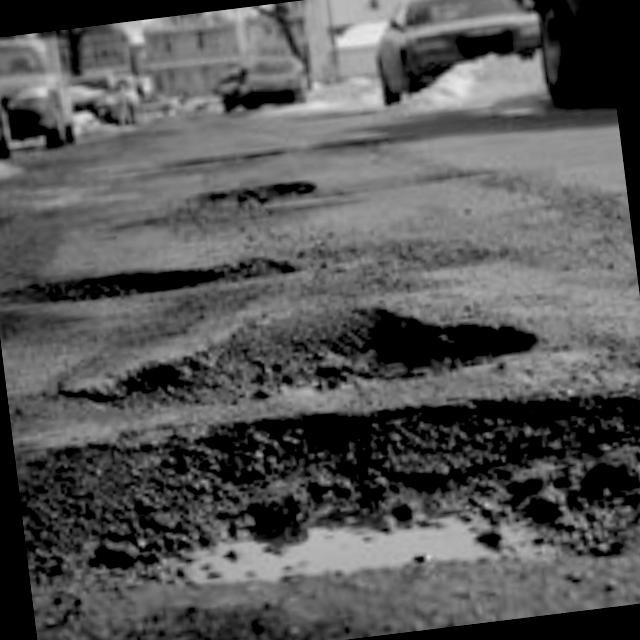Pothole: (52, 361, 640, 640), (113, 266, 566, 426), (0, 238, 335, 325), (149, 151, 351, 232)
